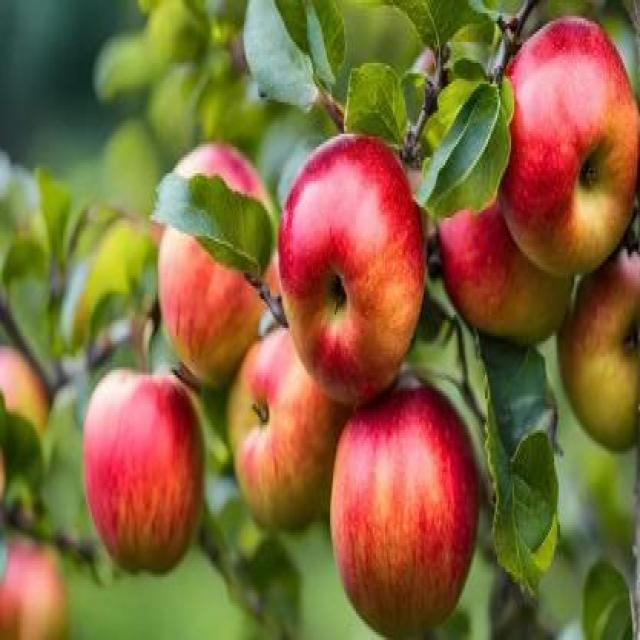fruit: (278, 133, 424, 400), (332, 382, 482, 634), (496, 15, 636, 276), (432, 131, 576, 354), (157, 145, 278, 383), (230, 327, 355, 531), (83, 368, 202, 572), (552, 238, 640, 461), (0, 539, 65, 636), (0, 344, 50, 448)
